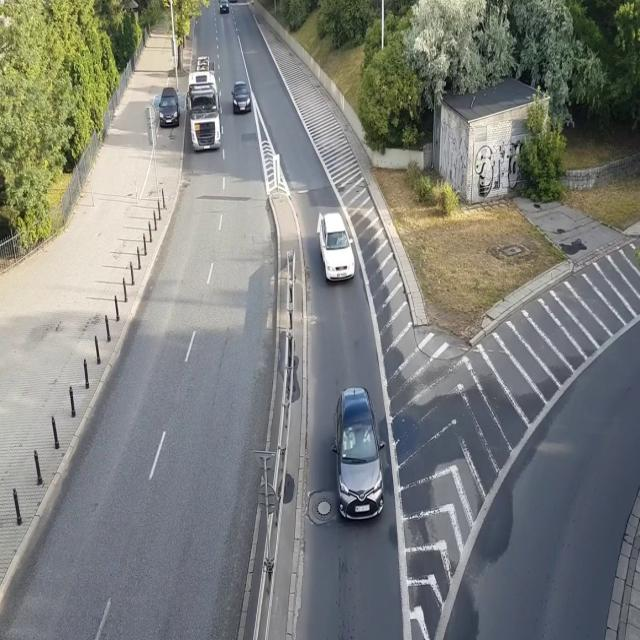car: (331, 384, 385, 518), (318, 212, 357, 284), (157, 84, 180, 131), (231, 79, 252, 114), (217, 0, 229, 14), (228, 0, 238, 2)
truck: (185, 56, 222, 152)
